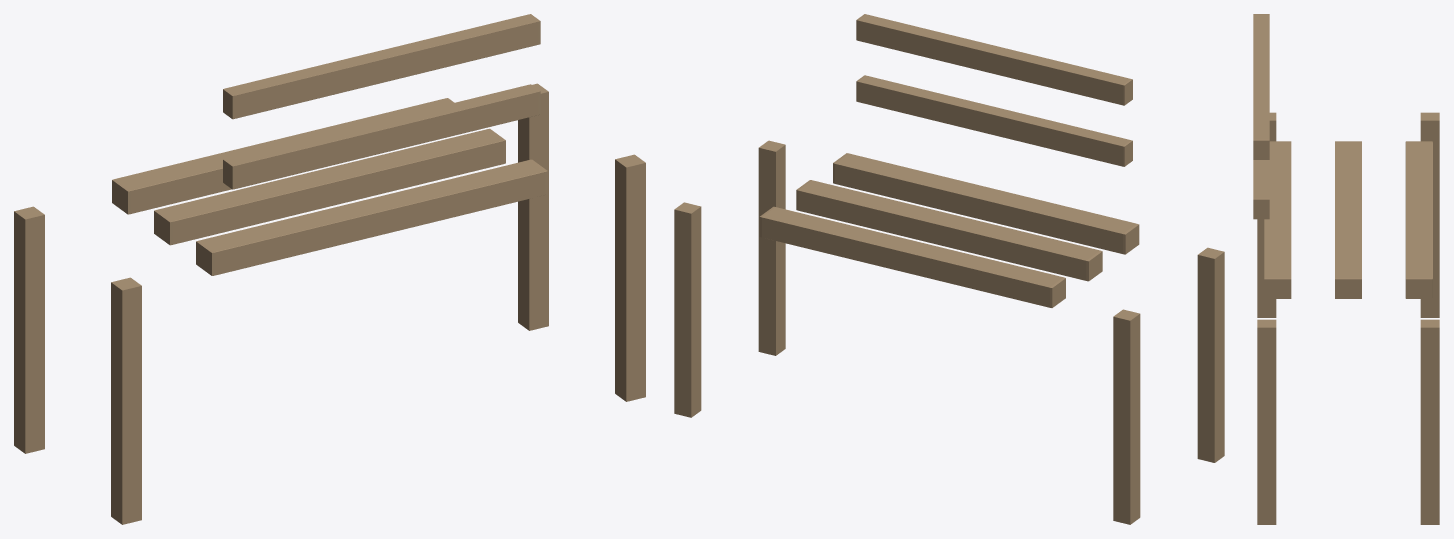
The model's file is bench.glb.
3 views of the same model, side by side, from view 1: azimuth 30°, elevation 25°; view 2: azimuth 150°, elevation 25°; view 3: azimuth 270°, elevation 25° (orthographic). The views are drawn at different scales.
Parts seen in each view (by area): view 1: Plank_0, Plank_1, Back_0, Back_1, Leg_-0.45_-0.15, Leg_-0.45_0.15, Leg_0.45_-0.15, Plank_2, Leg_0.45_0.15; view 2: Plank_0, Plank_1, Plank_2, Back_1, Back_0, Leg_-0.45_-0.15, Leg_0.45_0.15, Leg_-0.45_0.15, Leg_0.45_-0.15; view 3: Plank_2, Plank_1, Leg_0.45_-0.15, Leg_0.45_0.15, Plank_0, Back_1, Leg_-0.45_0.15, Leg_-0.45_-0.15, Back_0.
Part boxes in pixels (x1,y1,x2,y2): Plank_0: (196, 159, 547, 275); Plank_1: (154, 128, 505, 245); Back_0: (223, 84, 540, 189); Back_1: (223, 14, 540, 119); Leg_-0.45_-0.15: (111, 277, 141, 524); Leg_-0.45_0.15: (14, 206, 44, 453); Leg_0.45_-0.15: (615, 154, 645, 401); Plank_2: (112, 98, 454, 214); Leg_0.45_0.15: (518, 83, 548, 330); Plank_0: (833, 153, 1139, 254); Plank_1: (796, 180, 1102, 281); Plank_2: (759, 206, 1065, 307); Back_1: (856, 14, 1132, 105); Back_0: (856, 75, 1132, 166); Leg_-0.45_-0.15: (1197, 247, 1224, 462); Leg_0.45_0.15: (674, 202, 701, 417); Leg_-0.45_0.15: (1113, 309, 1140, 524); Leg_0.45_-0.15: (758, 140, 785, 355); Plank_2: (1405, 141, 1432, 298); Plank_1: (1335, 141, 1361, 298); Leg_0.45_-0.15: (1257, 319, 1276, 524); Leg_0.45_0.15: (1420, 319, 1439, 524); Plank_0: (1264, 141, 1291, 298); Back_1: (1253, 14, 1269, 159); Leg_-0.45_0.15: (1420, 112, 1439, 317); Leg_-0.45_-0.15: (1257, 112, 1276, 317); Back_0: (1253, 160, 1269, 219).
Bounding box in the file's own units: 0.935 × 0.69 × 0.3425.
